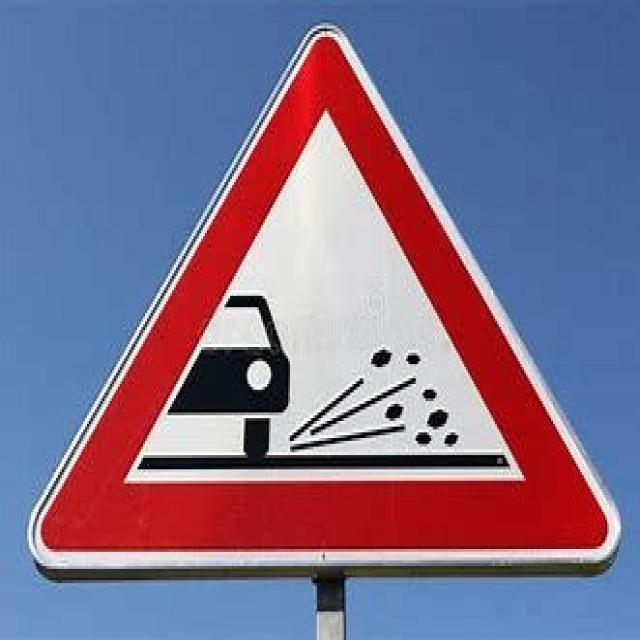LOOSE_GRAVEL: (27, 21, 621, 583)
